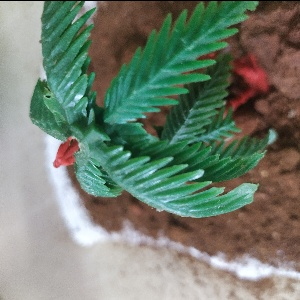plant: (33, 1, 275, 218)
